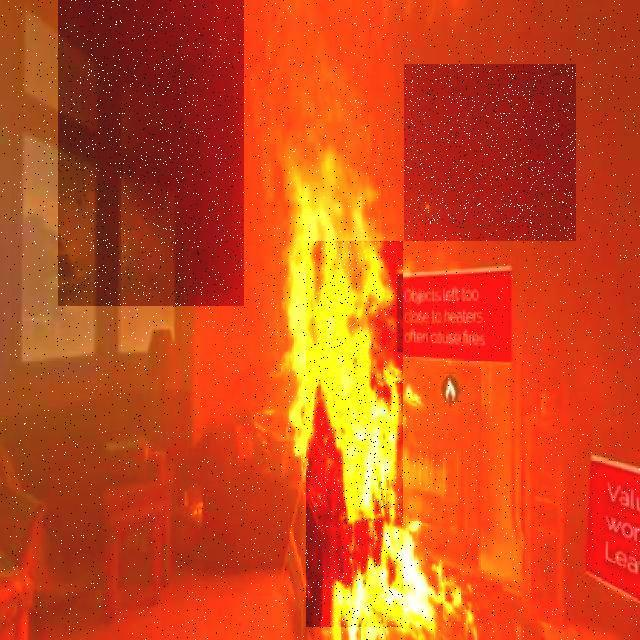Fire: (281, 148, 456, 640)
